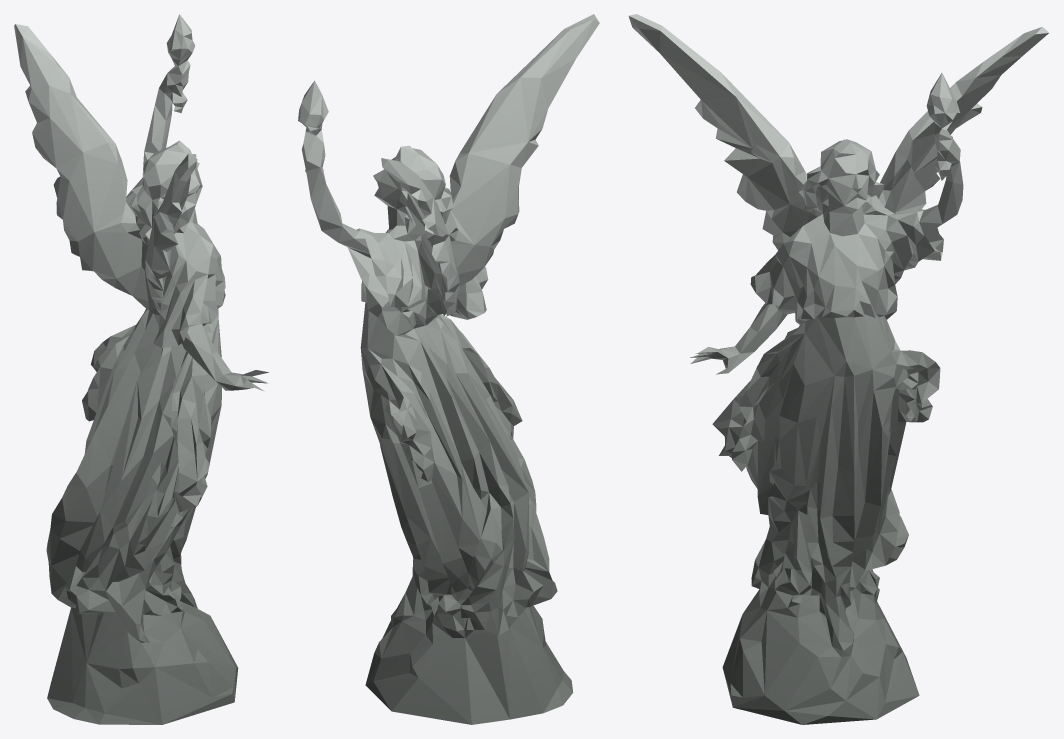
The model's file is ZLP_Build_C_8.FBX.
3 renders of one model, left to right at view 1: azimuth 30°, elevation 25°; view 2: azimuth 150°, elevation 25°; view 3: azimuth 270°, elevation 25°, orthographic. The views are drawn at different scales.
Parts seen in each view (by area): view 1: ZLP_Build_C_8; view 2: ZLP_Build_C_8; view 3: ZLP_Build_C_8.
Boxes of the visible parts, x1,y1,x2,y2 form: ZLP_Build_C_8: (14,14,268,724); ZLP_Build_C_8: (298,14,599,724); ZLP_Build_C_8: (628,14,1048,724).
Bounding box in the file's own units: 337 × 987 × 573.
